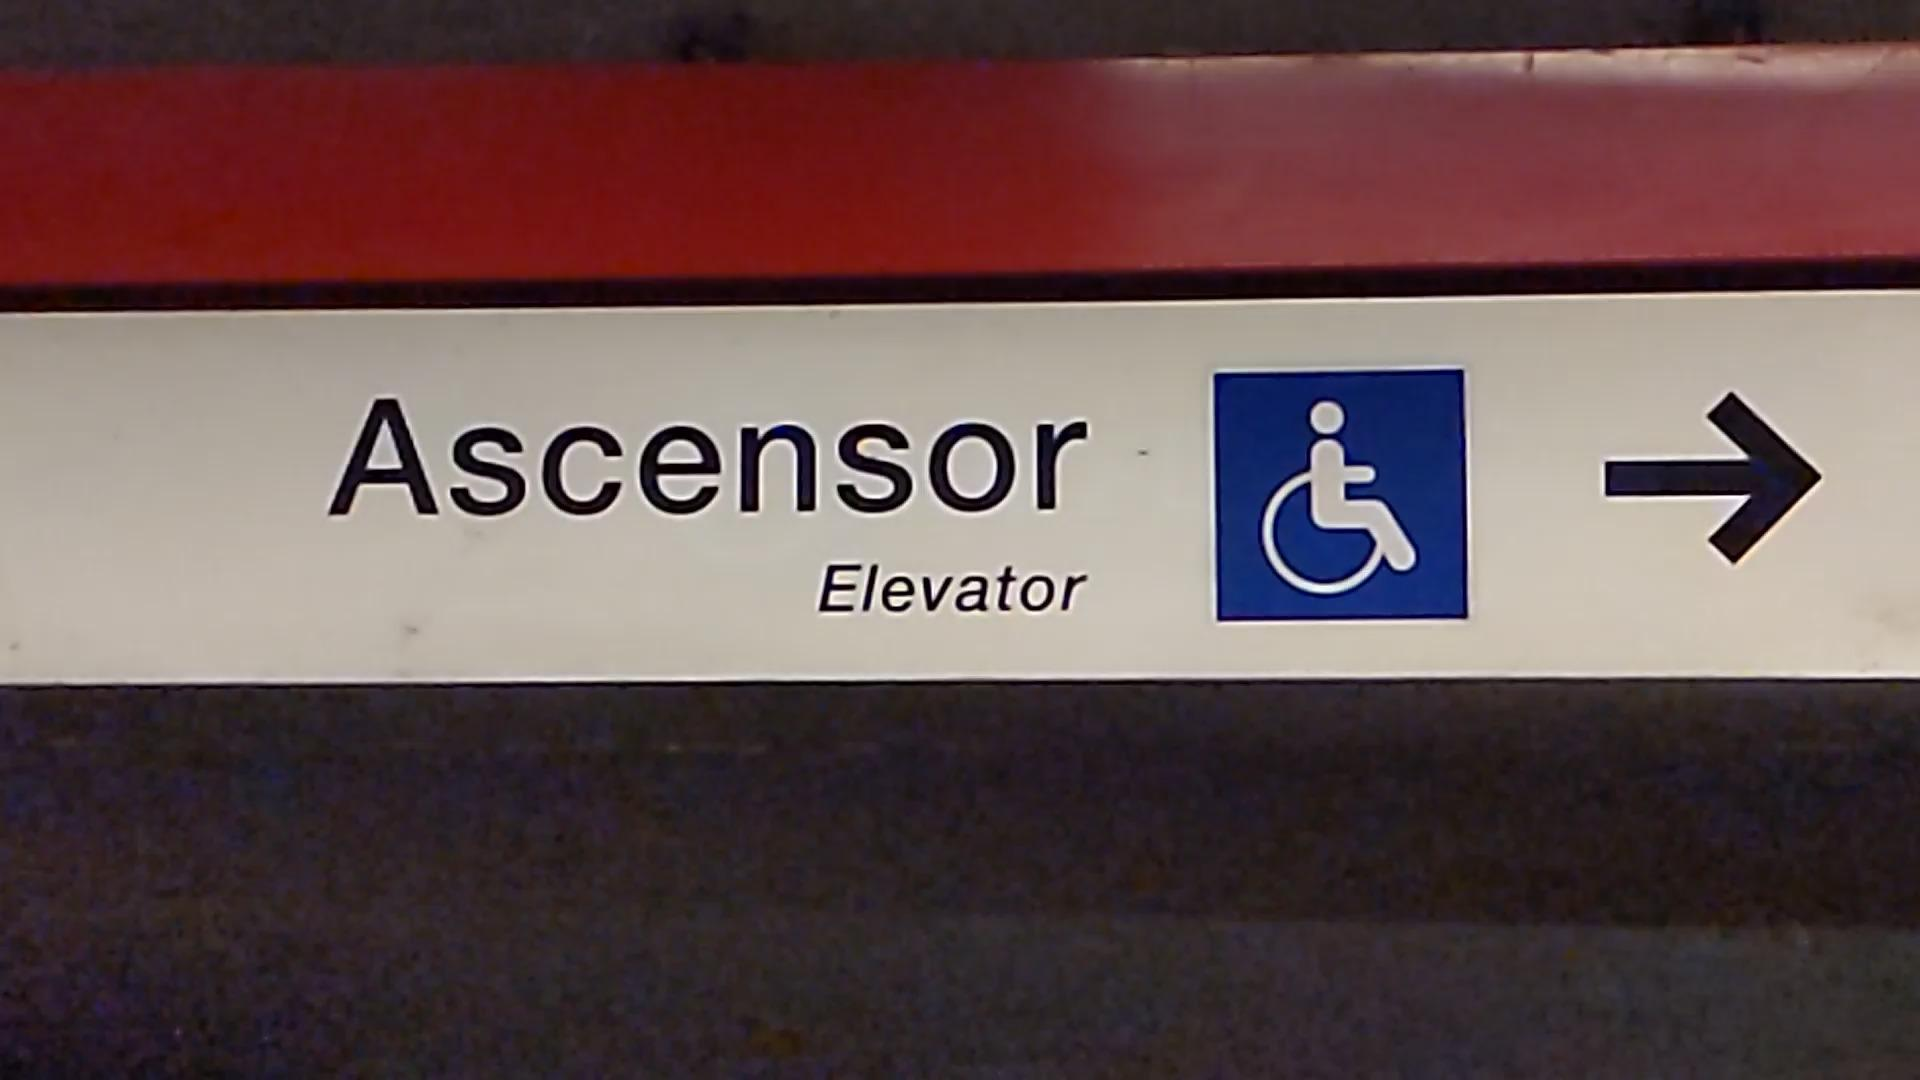handicapped symbol: (1258, 393, 1424, 596)
right arrow: (1597, 376, 1829, 574)
